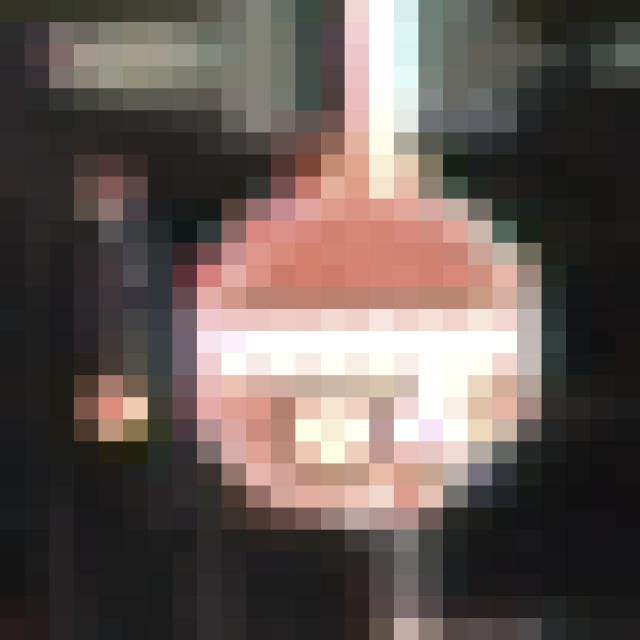No Entry: (124, 134, 493, 509)
